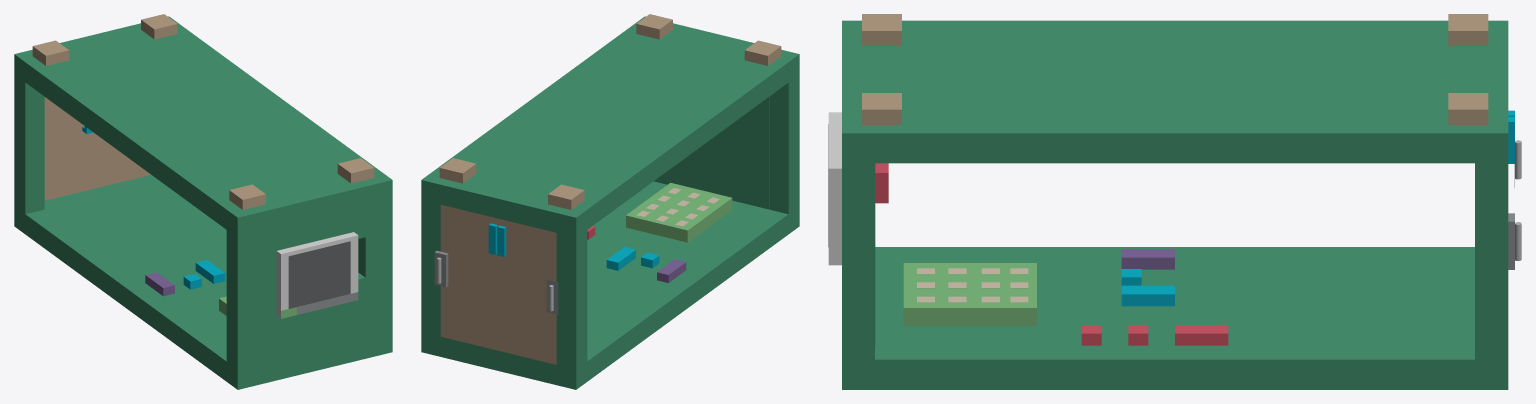
File: CropCare Unit v2.glb
3 views of the same model, side by side, from view 1: azimuth 30°, elevation 25°; view 2: azimuth 150°, elevation 25°; view 3: azimuth 270°, elevation 25° (orthographic). The views are drawn at different scales.
Parts seen in each view (by area): view 1: Mesh_Mesh_head_geo.001_lambert2SG.001; view 2: Mesh_Mesh_head_geo.001_lambert2SG.001; view 3: Mesh_Mesh_head_geo.001_lambert2SG.001.
Boxes of the visible parts, x1,y1,x2,y2 form: Mesh_Mesh_head_geo.001_lambert2SG.001: (14,14,392,389); Mesh_Mesh_head_geo.001_lambert2SG.001: (421,14,799,389); Mesh_Mesh_head_geo.001_lambert2SG.001: (828,14,1521,389).
Size of the model in its own units: 40 by 45 by 104.
